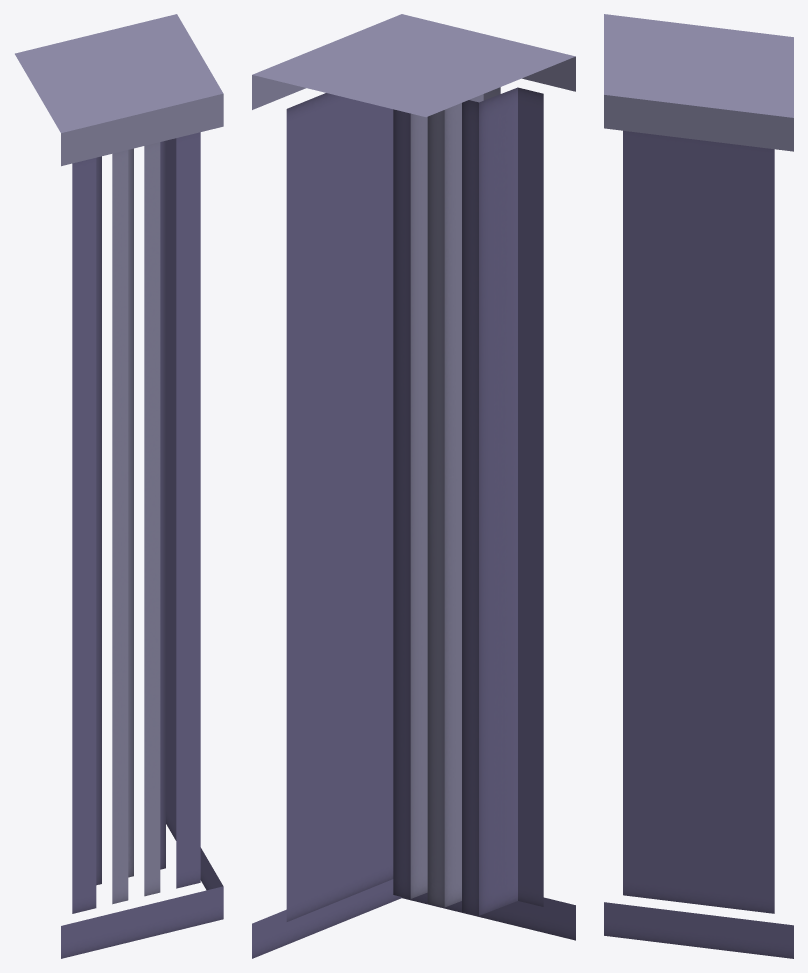
File: Field_Type_02_Pillar_01.FBX
3 views of the same model, side by side, from view 1: azimuth 30°, elevation 25°; view 2: azimuth 150°, elevation 25°; view 3: azimuth 270°, elevation 25° (orthographic). The views are drawn at different scales.
Parts seen in each view (by area): view 1: Field_Type_02_Pillar_01; view 2: Field_Type_02_Pillar_01; view 3: Field_Type_02_Pillar_01.
Boxes of the visible parts, box(x1,y1,x2,y2) form: Field_Type_02_Pillar_01: box(15, 14, 223, 958); Field_Type_02_Pillar_01: box(252, 14, 575, 958); Field_Type_02_Pillar_01: box(604, 14, 793, 958).
Size of the model in its own units: 10.44 by 39.37 by 8.05.
